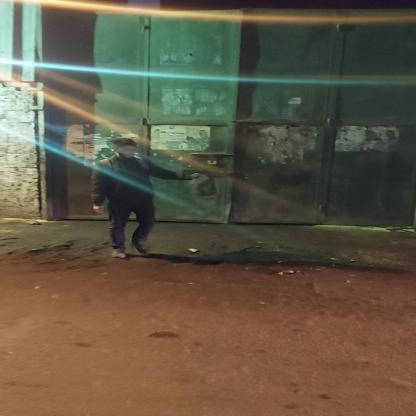long weapon: (166, 160, 268, 188)
